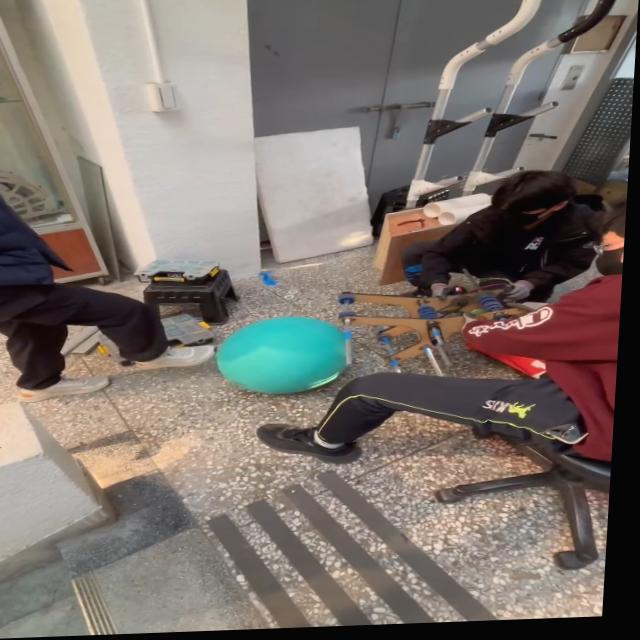ALGAE: (211, 313, 354, 398)
